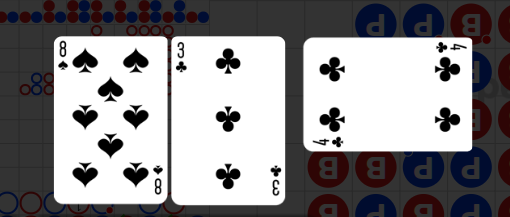4C: (311, 134, 346, 149), (433, 41, 468, 55)
8S: (57, 40, 70, 73)
